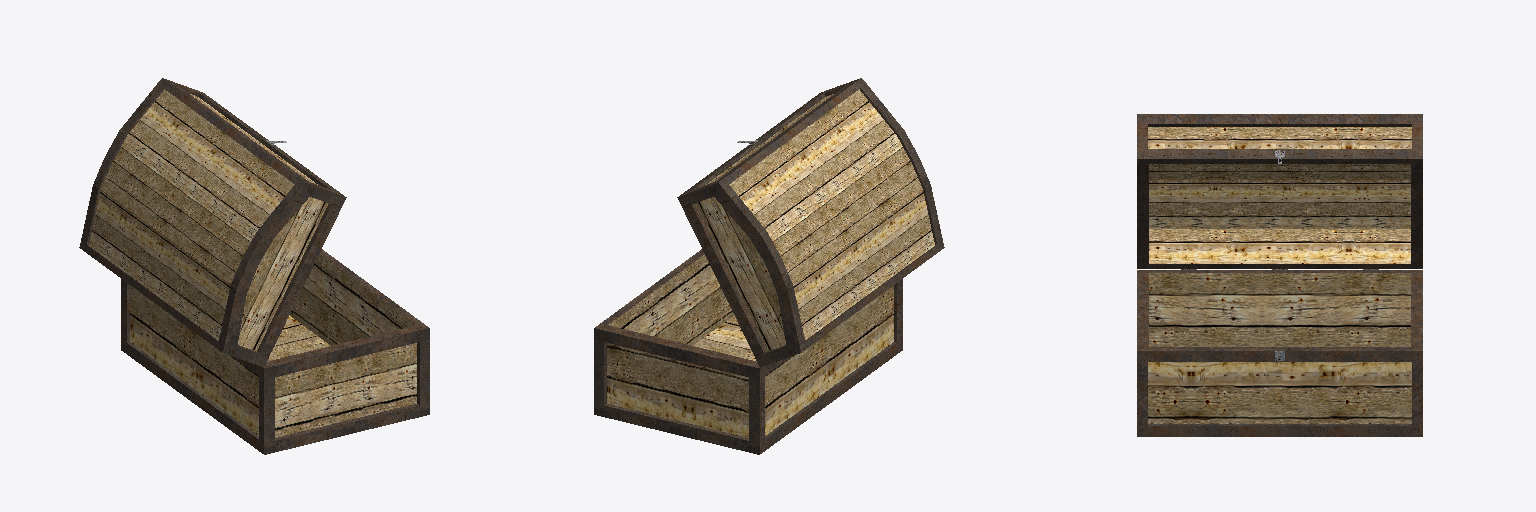
3 renders of one model, left to right at view 1: azimuth 30°, elevation 25°; view 2: azimuth 150°, elevation 25°; view 3: azimuth 270°, elevation 25°, orthographic.
Parts seen in each view (by area): view 1: NurbsPath_Mesh; view 2: NurbsPath_Mesh; view 3: NurbsPath_Mesh.
Boxes of the visible parts, x1=… form: NurbsPath_Mesh: x1=79, y1=78, x2=429, y2=454; NurbsPath_Mesh: x1=594, y1=78, x2=944, y2=454; NurbsPath_Mesh: x1=1137, y1=114, x2=1422, y2=436.
Bounding box in the file's own units: 1.52 × 1.82 × 1.8.
Materials: 3 (1 with a texture image).